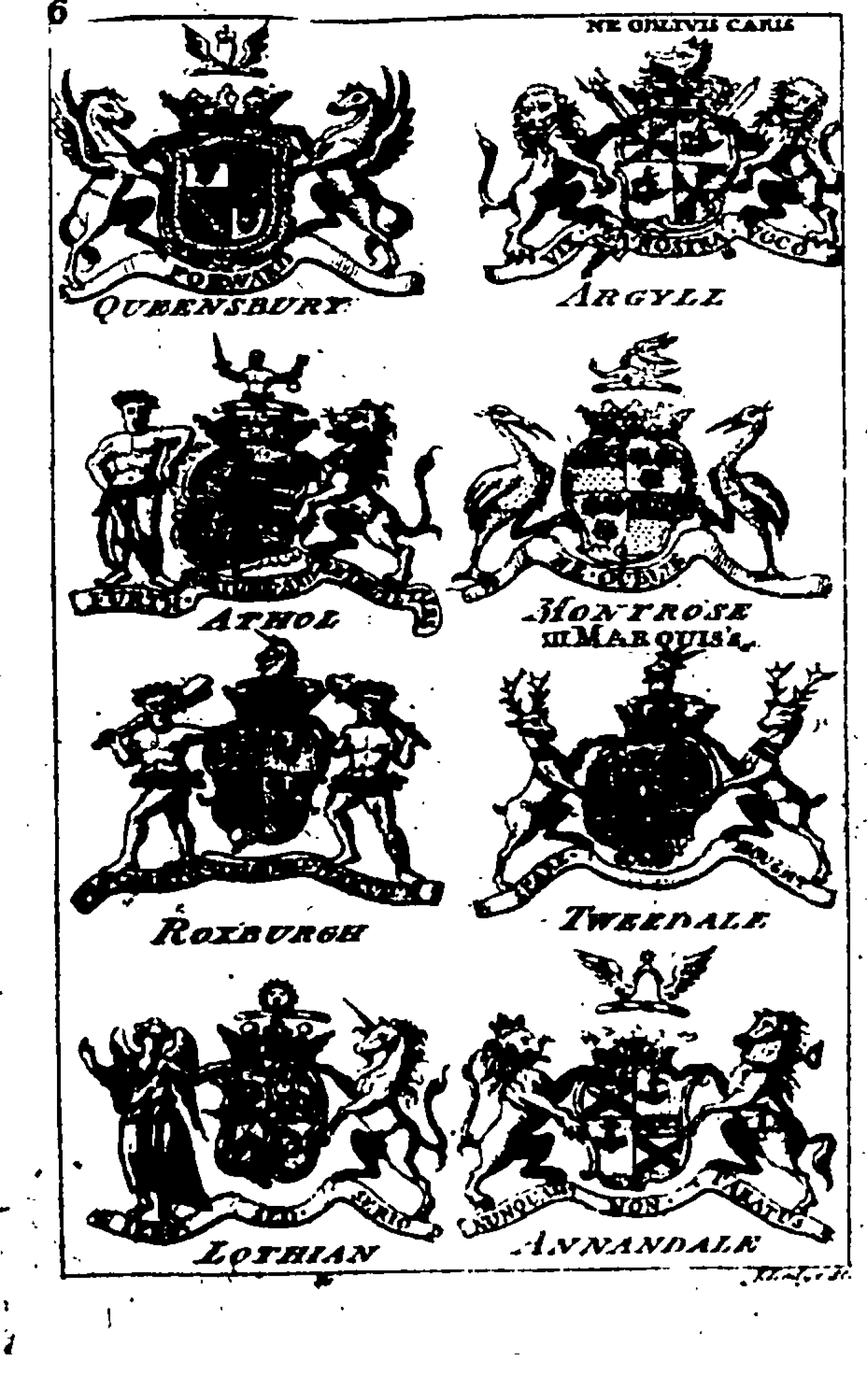coat_of_arms: (71, 642, 463, 954), (452, 938, 831, 1257), (465, 333, 836, 657), (69, 961, 455, 1268), (72, 338, 455, 638), (56, 29, 437, 329), (468, 649, 853, 941), (456, 40, 848, 324)
